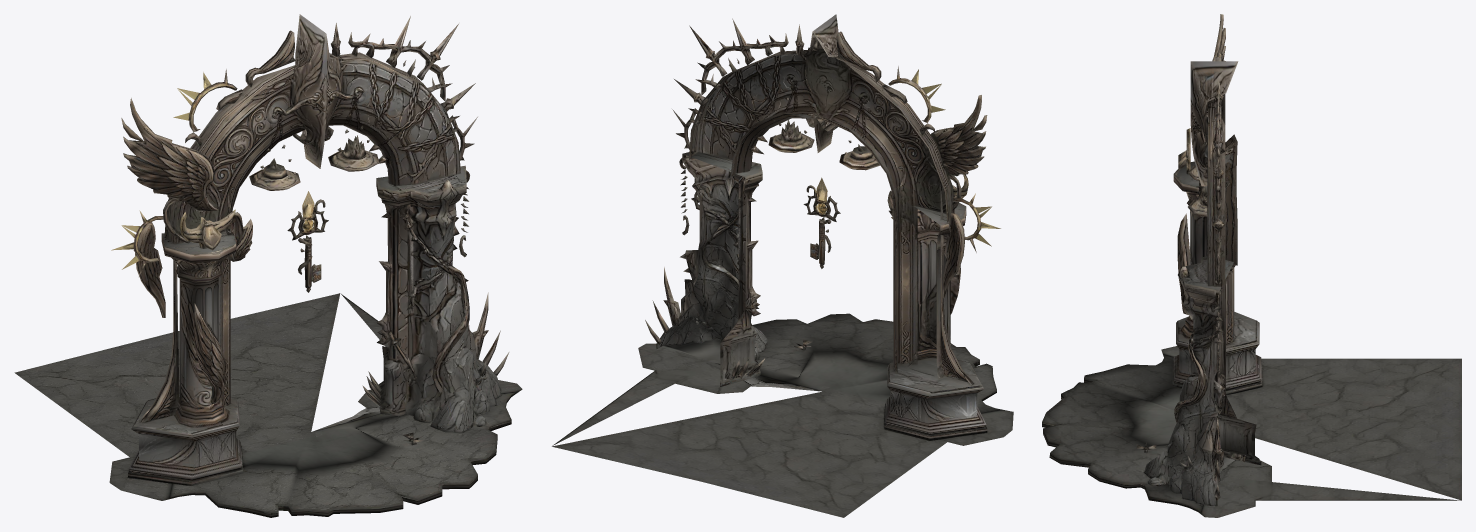
Rendered from 019f48ac-eaa7-749d-9c54-c6648d0f8422.glb.
The picture shows the model from 3 angles, left to right: view 1: azimuth 30°, elevation 25°; view 2: azimuth 150°, elevation 25°; view 3: azimuth 270°, elevation 25°; orthographic projection. The views are drawn at different scales.
Parts seen in each view (by area): view 1: tripo_node_b8f2a4e9-e425-4394-a62b-e7781fb92b52; view 2: tripo_node_b8f2a4e9-e425-4394-a62b-e7781fb92b52; view 3: tripo_node_b8f2a4e9-e425-4394-a62b-e7781fb92b52.
Boxes of the visible parts, x1,y1,x2,y2 form: tripo_node_b8f2a4e9-e425-4394-a62b-e7781fb92b52: (14, 14, 522, 517); tripo_node_b8f2a4e9-e425-4394-a62b-e7781fb92b52: (552, 14, 1013, 517); tripo_node_b8f2a4e9-e425-4394-a62b-e7781fb92b52: (1042, 14, 1461, 517).
Size of the model in its own units: 0.998 by 0.9668 by 0.998.
Materials: 1 (1 with a texture image).
